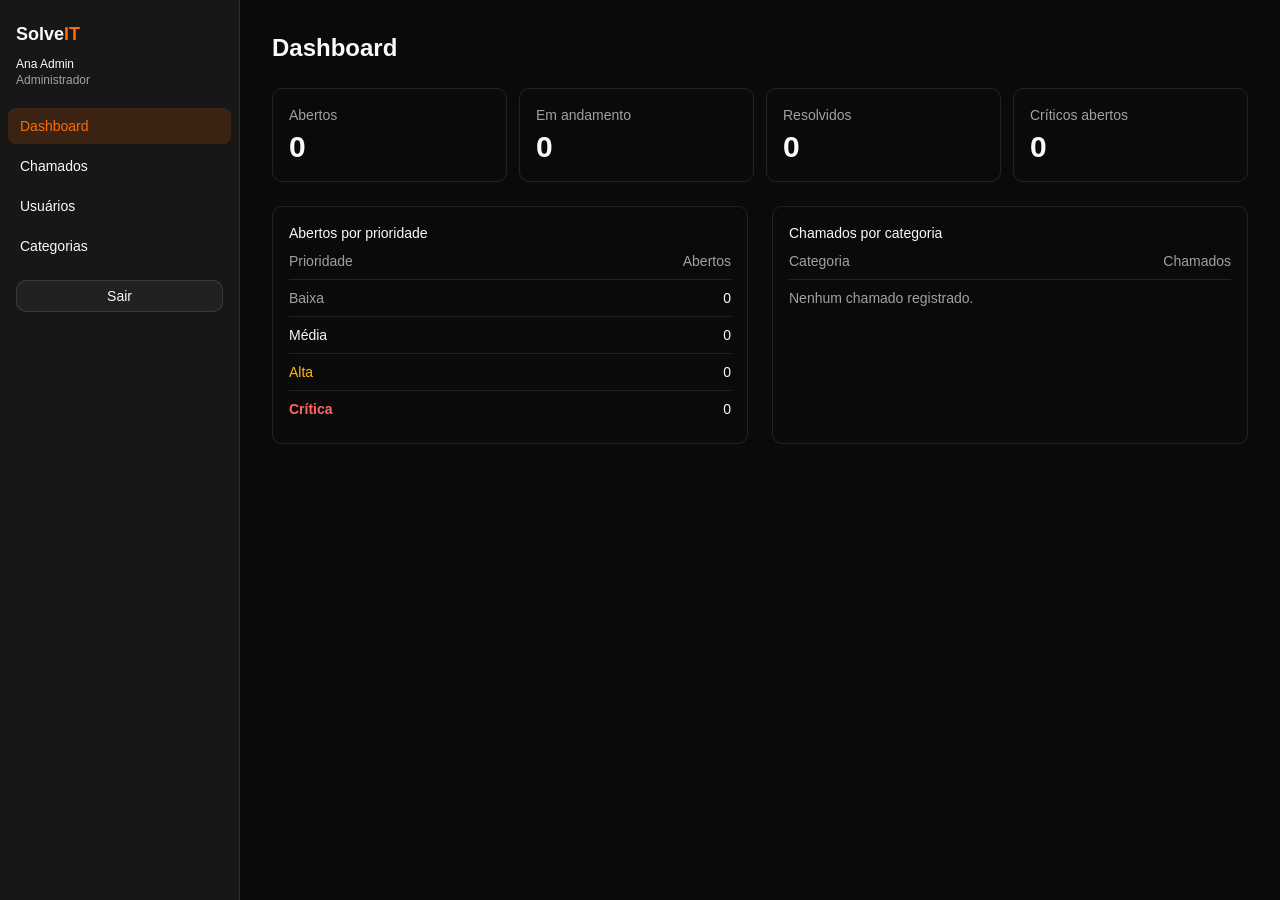
Scenario: autenticação › sai e limpa a sessão
This screenshot has width=1280, height=900.
Click the button "Sair" at coordinates (120, 296), box [16,280,223,312]
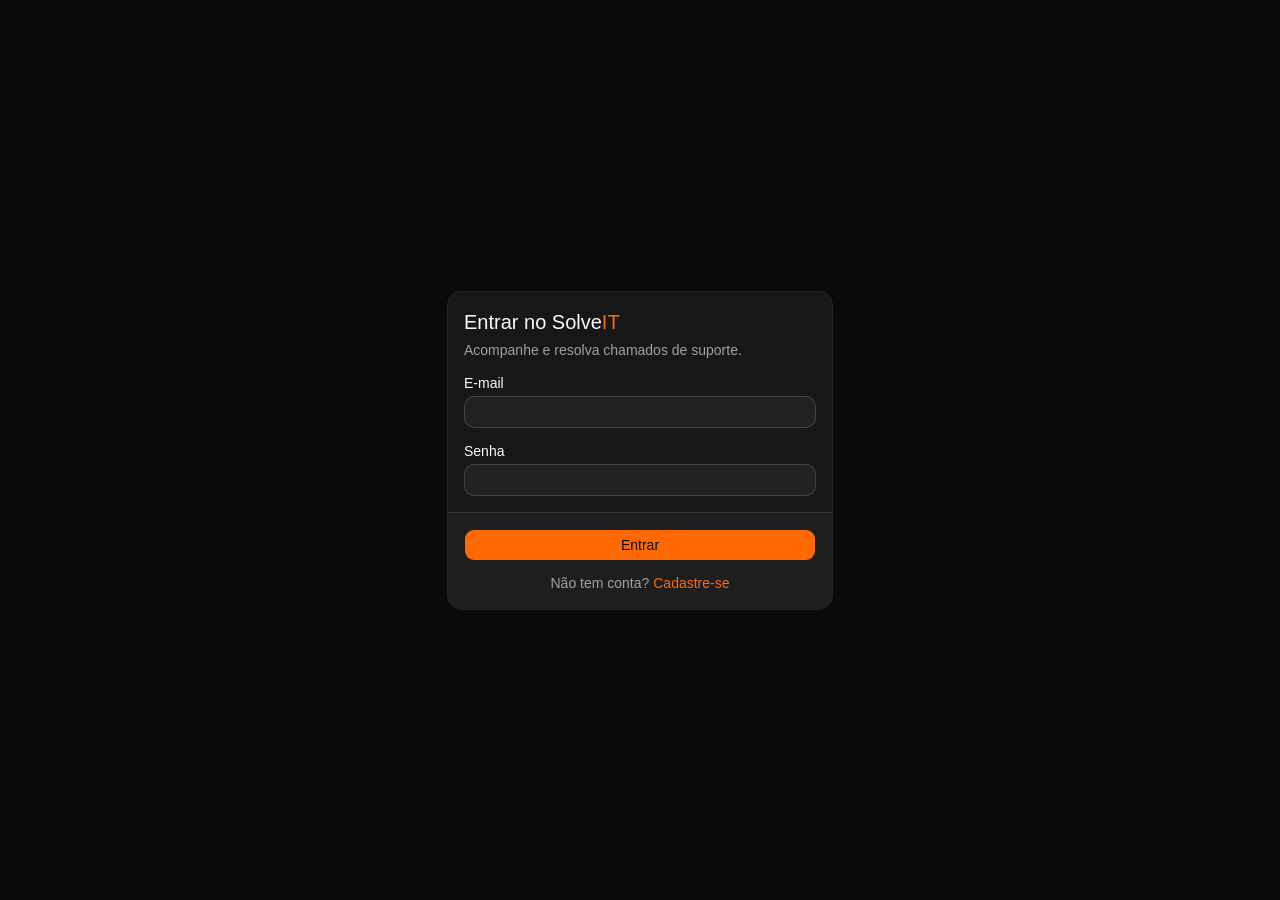
Check: the heading "Entrar no SolveIT" is shown, box [464,310,620,332]
